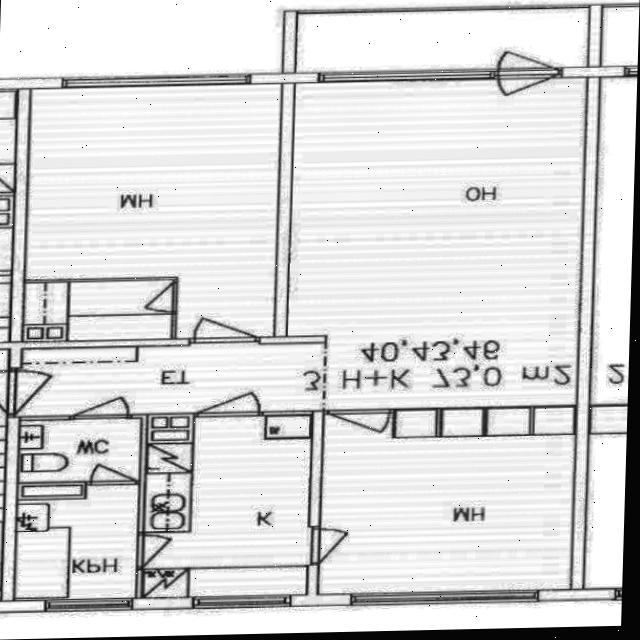room: (22, 76, 282, 342), (313, 407, 579, 594), (142, 410, 309, 602), (14, 484, 138, 602), (23, 281, 172, 341), (17, 418, 141, 483)
